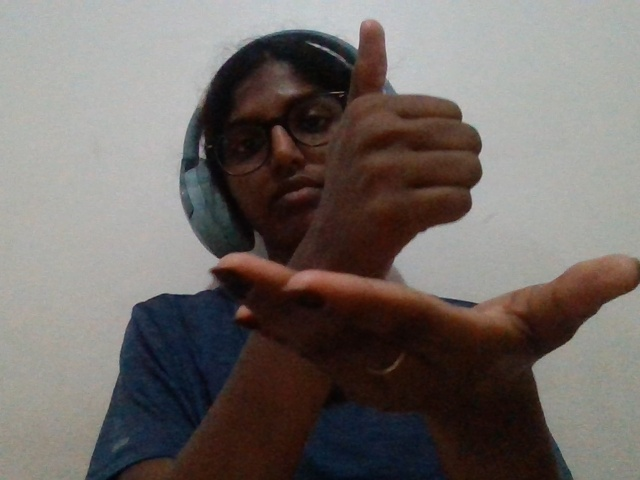Help: (167, 15, 640, 464)
